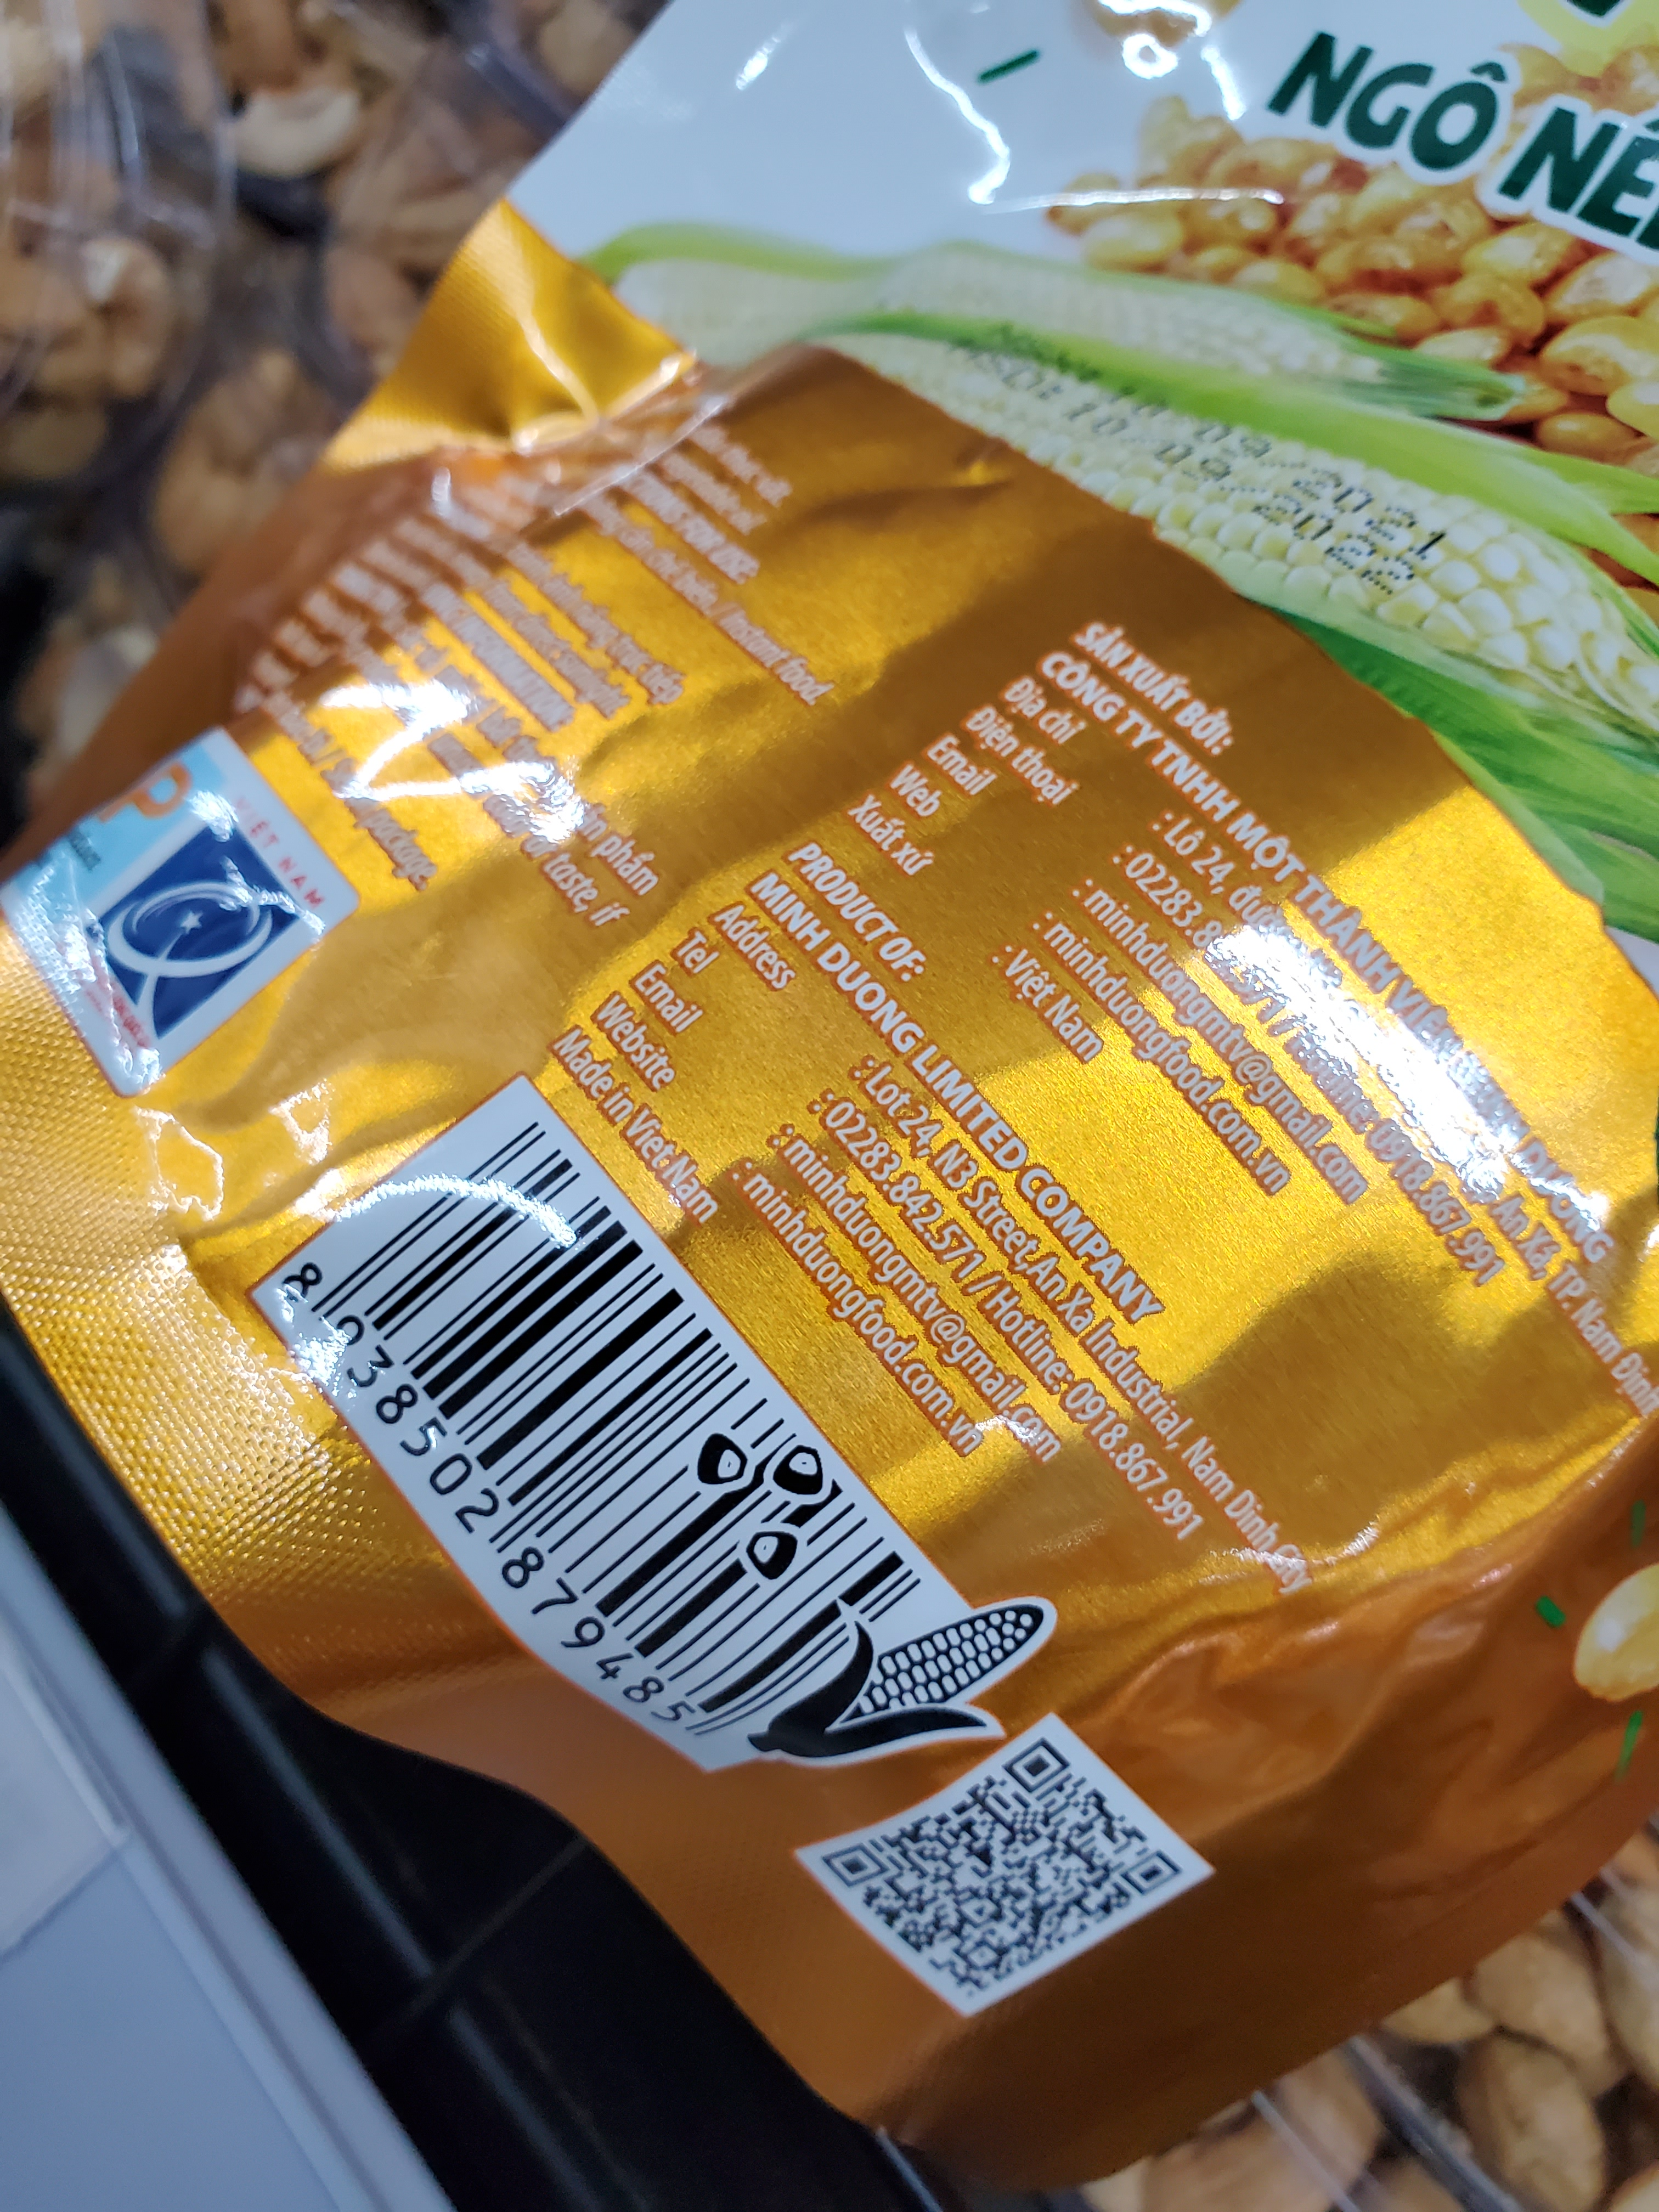barcode: (230, 1080, 967, 1818)
qr code: (775, 1693, 1227, 2052)
